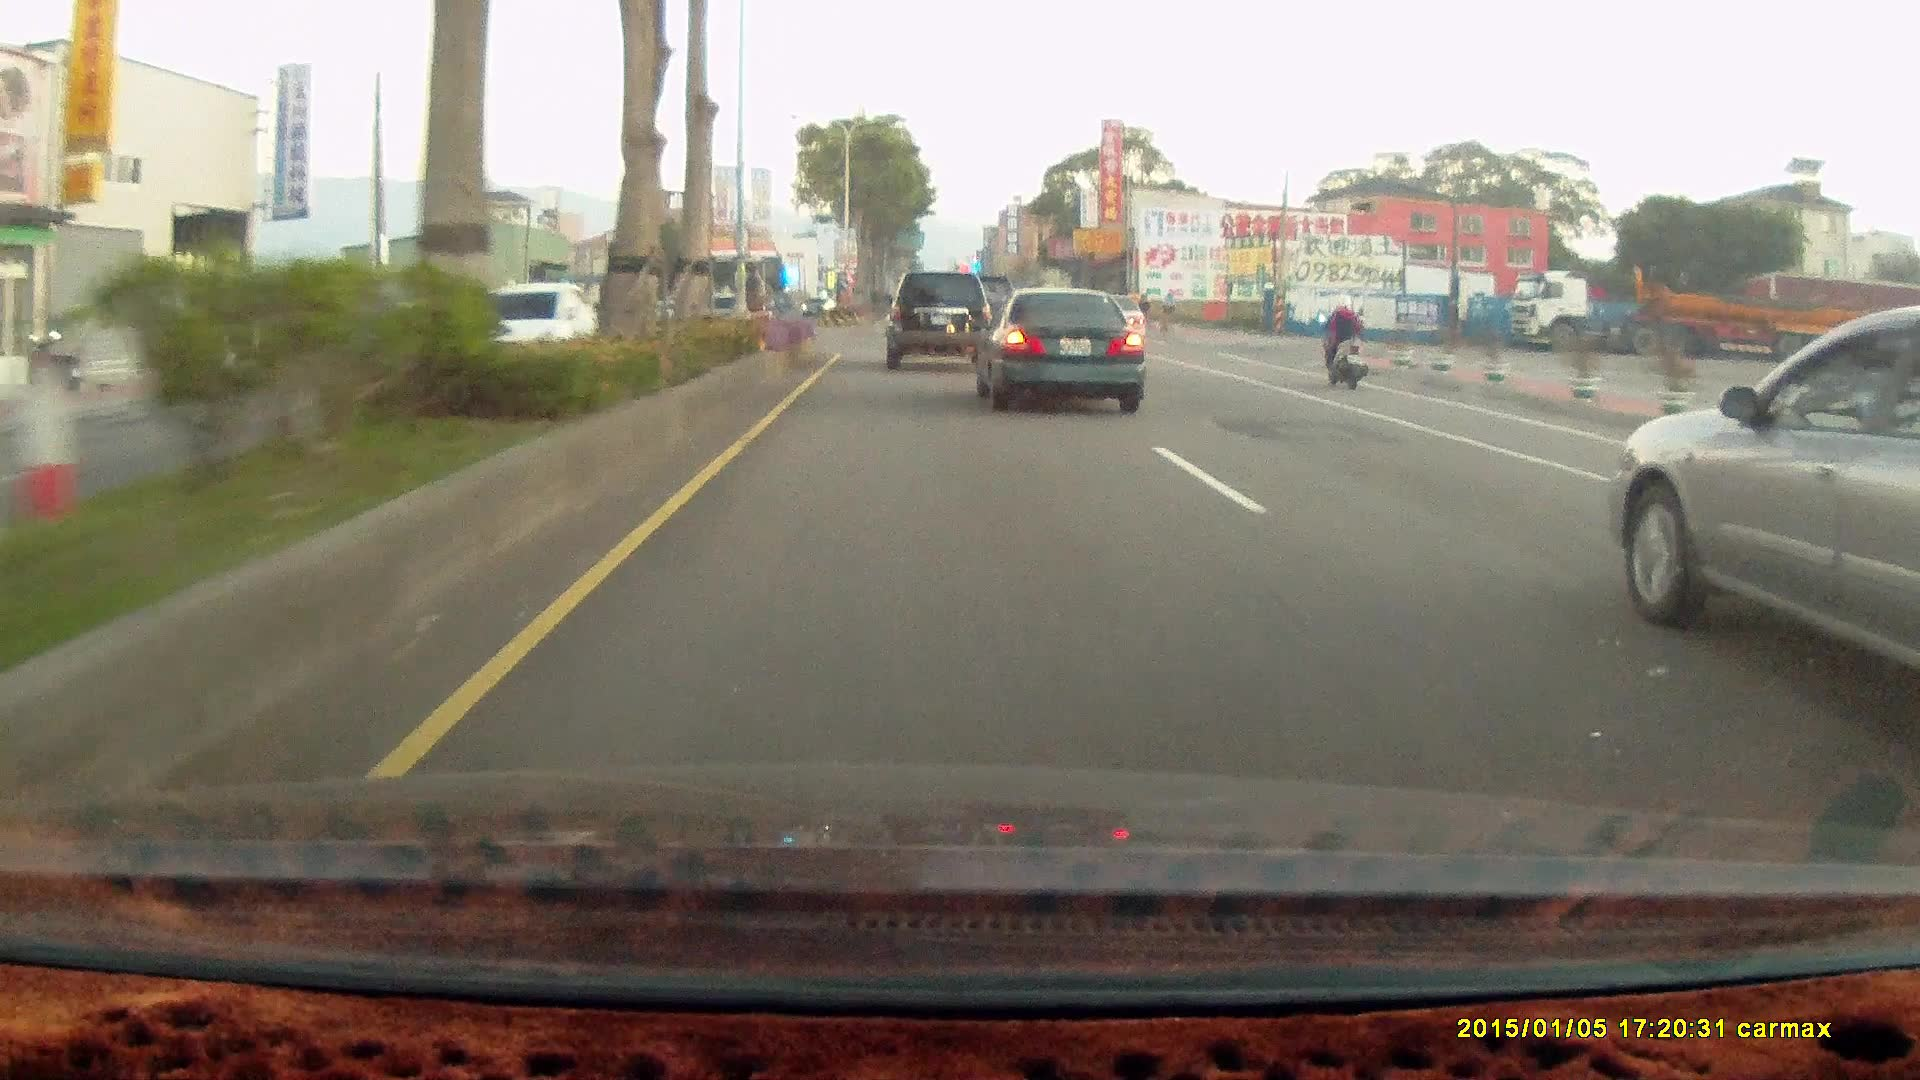rider: (1311, 290, 1377, 397), (1313, 292, 1369, 388)
vehicle: (1623, 302, 1920, 707), (1505, 264, 1870, 361), (970, 285, 1145, 413), (977, 289, 1146, 411), (461, 277, 604, 369), (887, 267, 996, 369), (883, 269, 991, 370)
